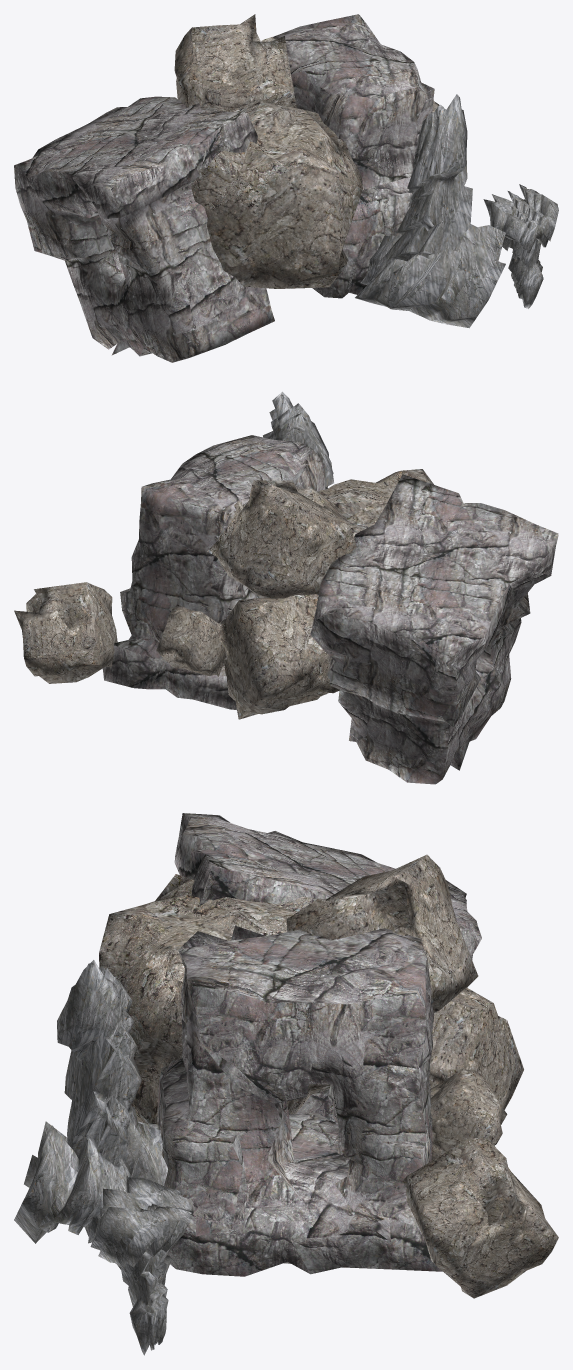
File: WolfCave_geo.fbx
The picture shows the model from 3 angles, top to bottom: view 1: azimuth 30°, elevation 25°; view 2: azimuth 150°, elevation 25°; view 3: azimuth 270°, elevation 25°; orthographic projection. The views are drawn at different scales.
Visible parts, largest first — view 1: rock9; view 2: rock9; view 3: rock9.
Boxes of the visible parts, box(x1,y1,x2,y2) form: rock9: box(14, 14, 558, 362); rock9: box(14, 391, 558, 784); rock9: box(14, 813, 558, 1355).
Size of the model in its own units: 803 by 490 by 642.
